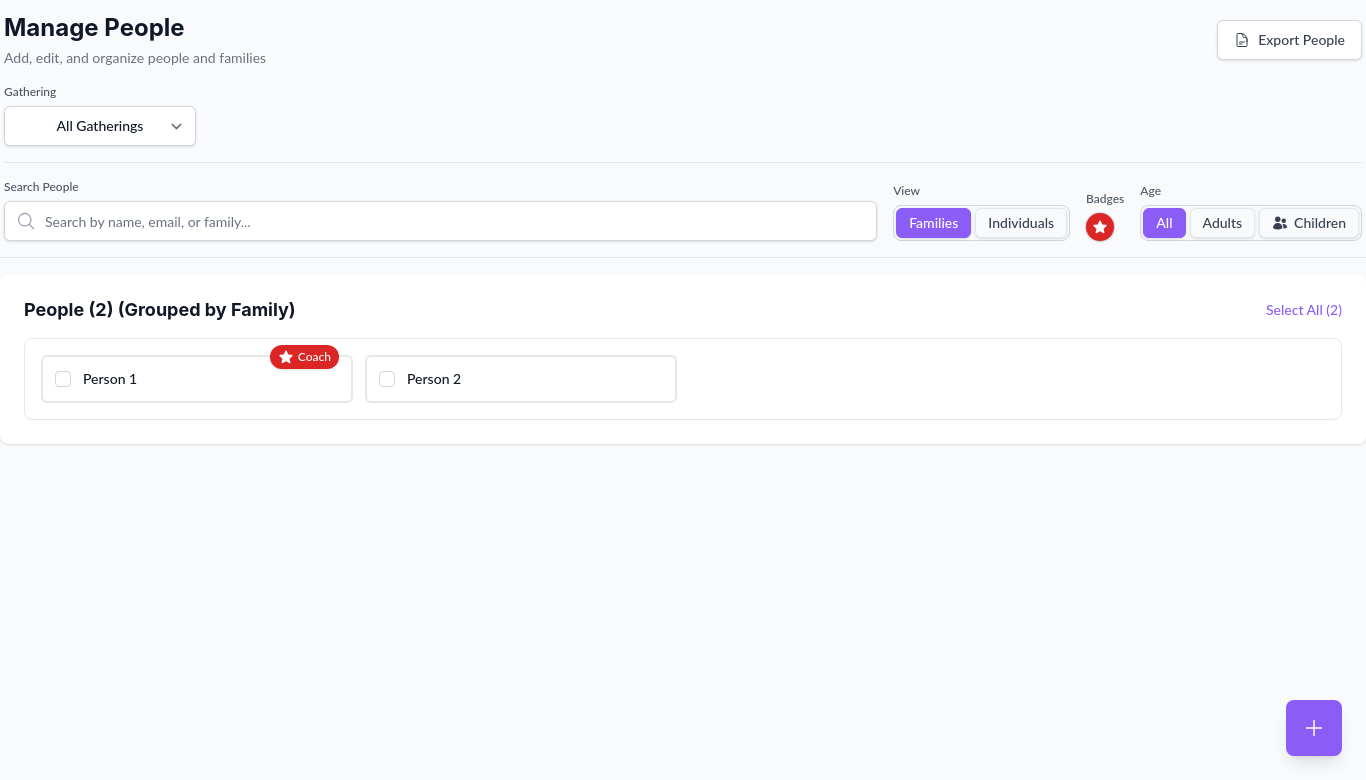
Test case: PeoplePage badge filter › does not leave a mouse-focus ring looking like selection after a badge is deselected
The width and height of the screenshot is (1366, 780).
Click the button named "Filter by badge: Coach".
click(1100, 227)  # box [1086,213,1114,241]
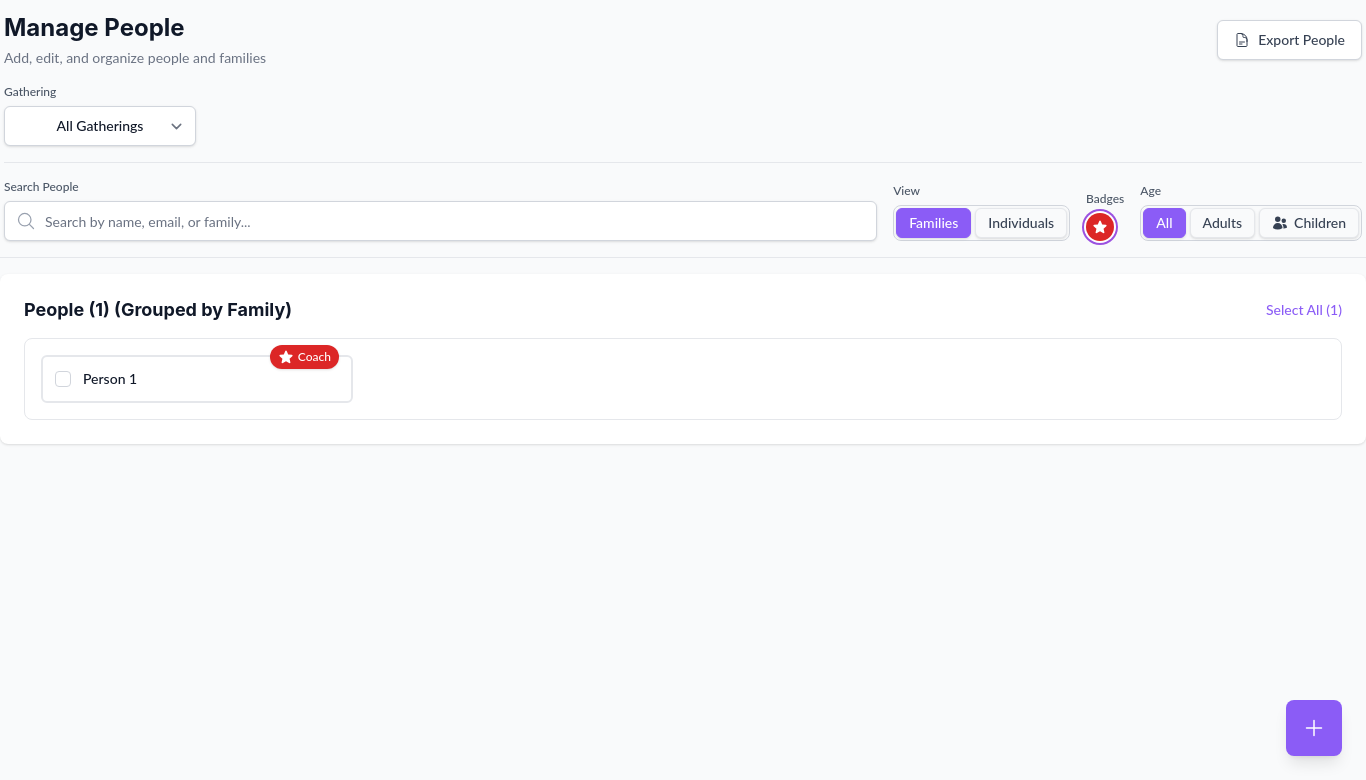
Click the button named "Filter by badge: Coach".
click(1100, 227)  # box [1086,213,1114,241]
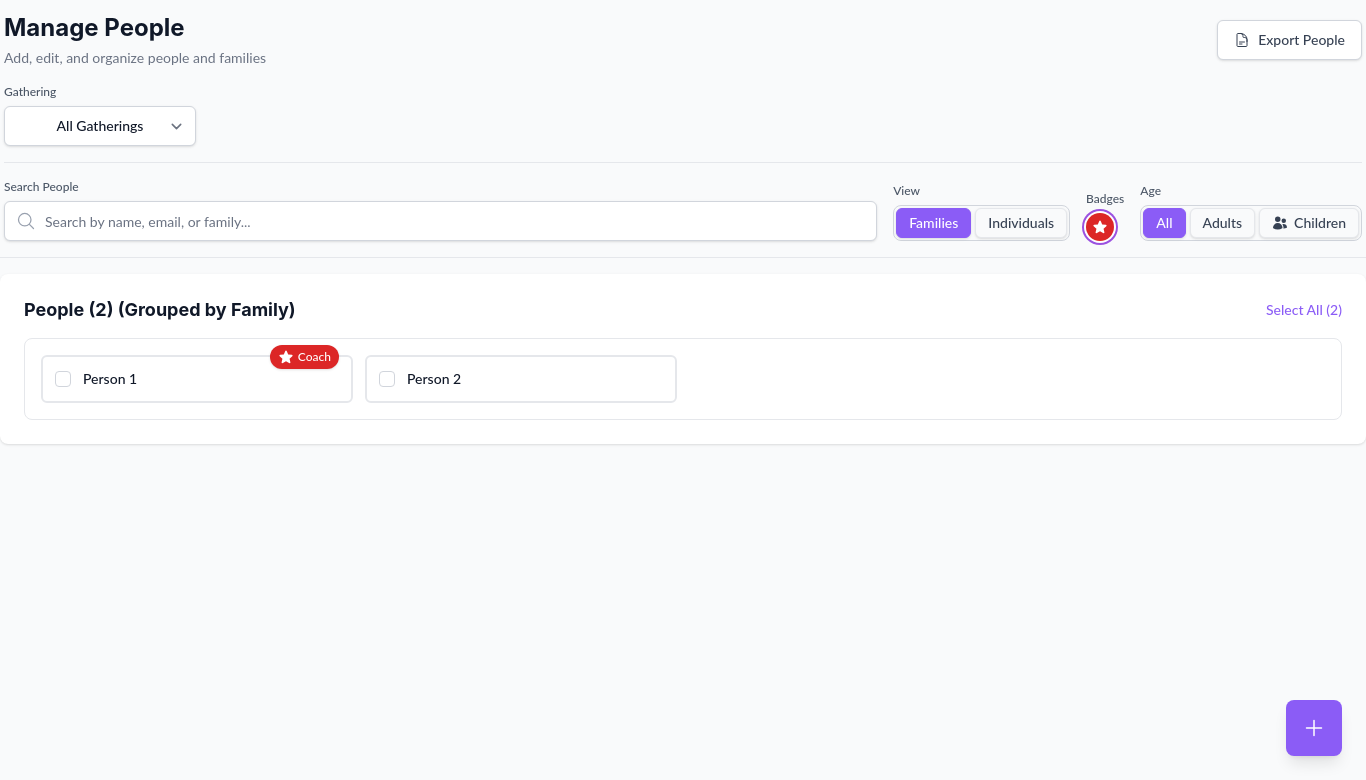
Check: the text "Person 2" is shown, box [407,369,461,389]
